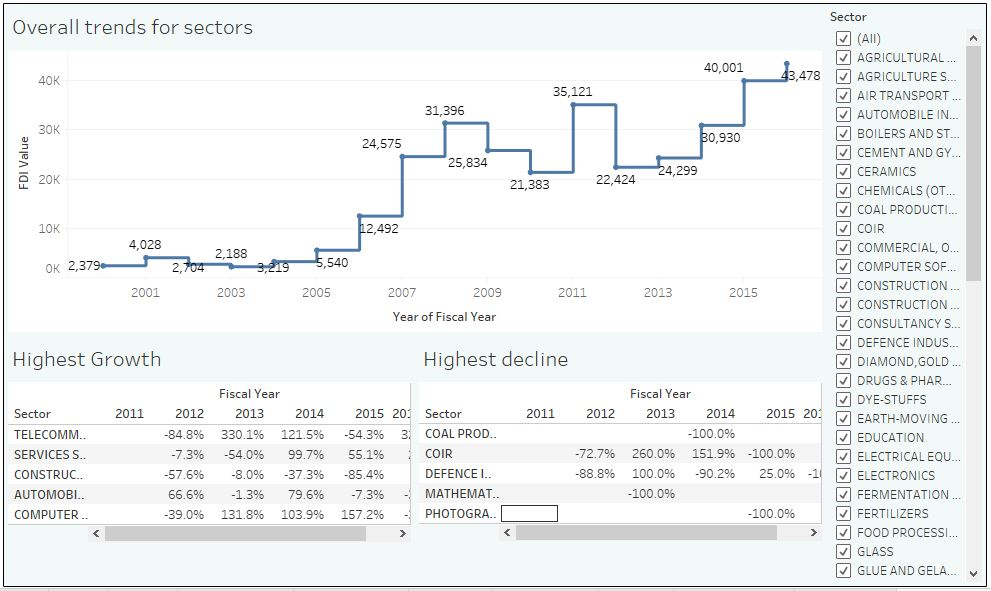

The page's visual inventory and layout, read from the dashboard file:
{"tool":"tableau","page":{"name":"Dashboard 2","canvas":[1000,600],"ordinal":1},"visuals":[{"type":"worksheet","box":[0,0,1000,600]},{"type":"worksheet","param":"horz","box":[9,9,982,582]},{"type":"worksheet","param":"vert","box":[9,9,822,582]},{"type":"worksheet","title":"3_Trend","mark":"Automatic","rows":["Pivot Field Values"],"cols":["Calculation_400820391823187968"],"box":[9,9,822,332]},{"type":"worksheet","param":"vert","box":[831,9,160,582]},{"type":"worksheet","title":"3_Trend","mark":"Automatic","rows":["Pivot Field Values"],"cols":["Calculation_400820391823187968"],"param":"[federated.09y0ni10jtp2k80zyanmf1hq76h2].[none:Sector:nk]","box":[831,9,160,582]},{"type":"worksheet","param":"vert","box":[9,341,822,250]},{"type":"worksheet","param":"horz","box":[9,341,822,218]},{"type":"worksheet","param":"vert","box":[9,341,822,218]},{"type":"worksheet","param":"horz","box":[9,341,822,210]},{"type":"worksheet","title":"5_Highest Growth","mark":"Automatic","rows":["Sector"],"cols":["Calculation_400820391823187968"],"box":[9,341,411,210]},{"type":"worksheet","param":"horz","box":[420,341,411,210]},{"type":"worksheet","title":"6_Highest decline","mark":"Automatic","rows":["Sector"],"cols":["Calculation_400820391823187968"],"box":[420,341,411,210]}]}

Visuals, with their boxes in screenshot pixels (x1, y1, x2, y2), scaled from the page's 1000x600 canvas onto the 991x591 screenshot:
worksheet: box(0, 0, 990, 590)
worksheet: box(9, 9, 982, 582)
worksheet: box(9, 9, 824, 582)
"3_Trend" worksheet: box(9, 9, 824, 336)
worksheet: box(824, 9, 982, 582)
"3_Trend" worksheet: box(824, 9, 982, 582)
worksheet: box(9, 336, 824, 582)
worksheet: box(9, 336, 824, 551)
worksheet: box(9, 336, 824, 551)
worksheet: box(9, 336, 824, 543)
"5_Highest Growth" worksheet: box(9, 336, 416, 543)
worksheet: box(416, 336, 824, 543)
"6_Highest decline" worksheet: box(416, 336, 824, 543)
